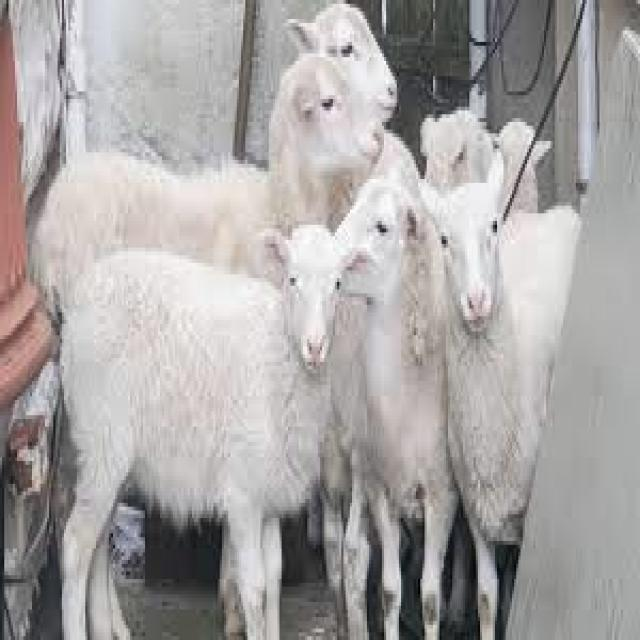sheep: (62, 225, 343, 636), (30, 53, 382, 293), (420, 156, 582, 636), (337, 179, 457, 636)
